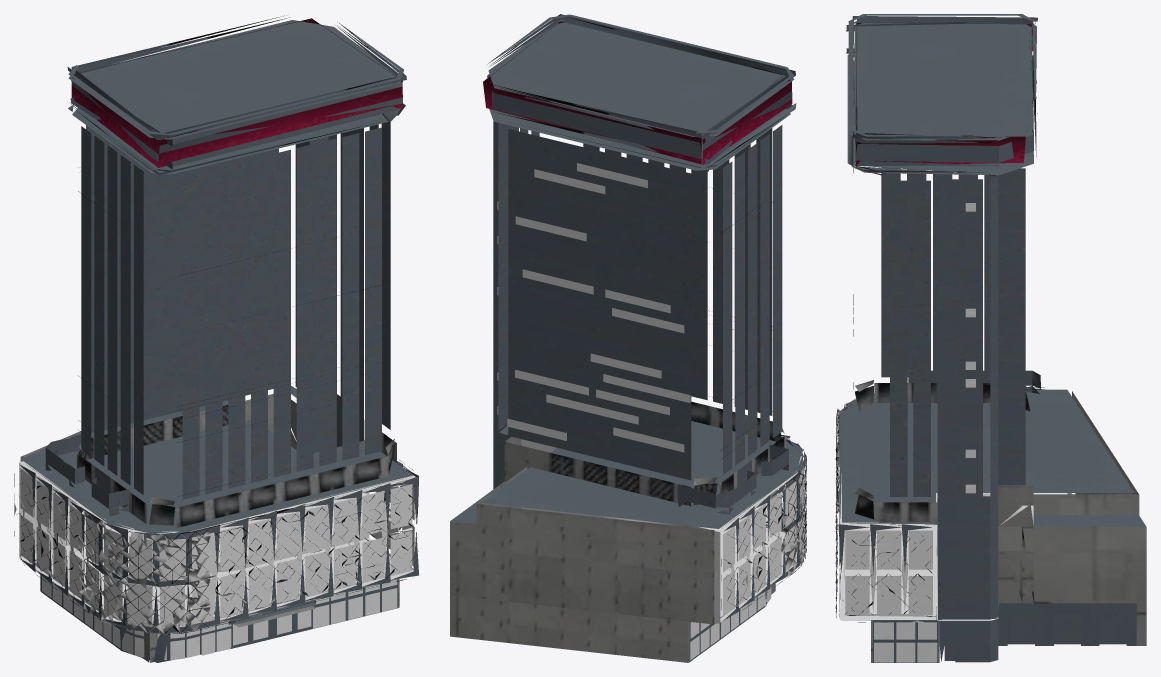
Rendered from red_band_tower_lod1.glb.
3 renders of one model, left to right at view 1: azimuth 30°, elevation 25°; view 2: azimuth 150°, elevation 25°; view 3: azimuth 270°, elevation 25°, orthographic. The views are drawn at different scales.
Parts seen in each view (by area): view 1: red_band_tower; view 2: red_band_tower; view 3: red_band_tower.
Boxes of the visible parts, x1=… form: red_band_tower: x1=14, y1=15, x2=419, y2=662; red_band_tower: x1=450, y1=14, x2=806, y2=662; red_band_tower: x1=835, y1=14, x2=1146, y2=662.
Bounding box in the file's own units: 59.97 × 106 × 56.56.
Materials: 1 (1 with a texture image).
